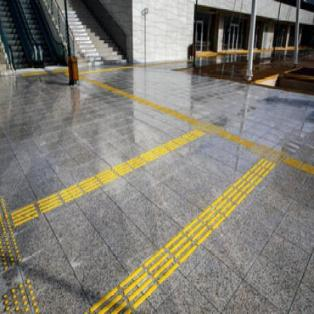Podoctatil: (0, 56, 314, 314)
